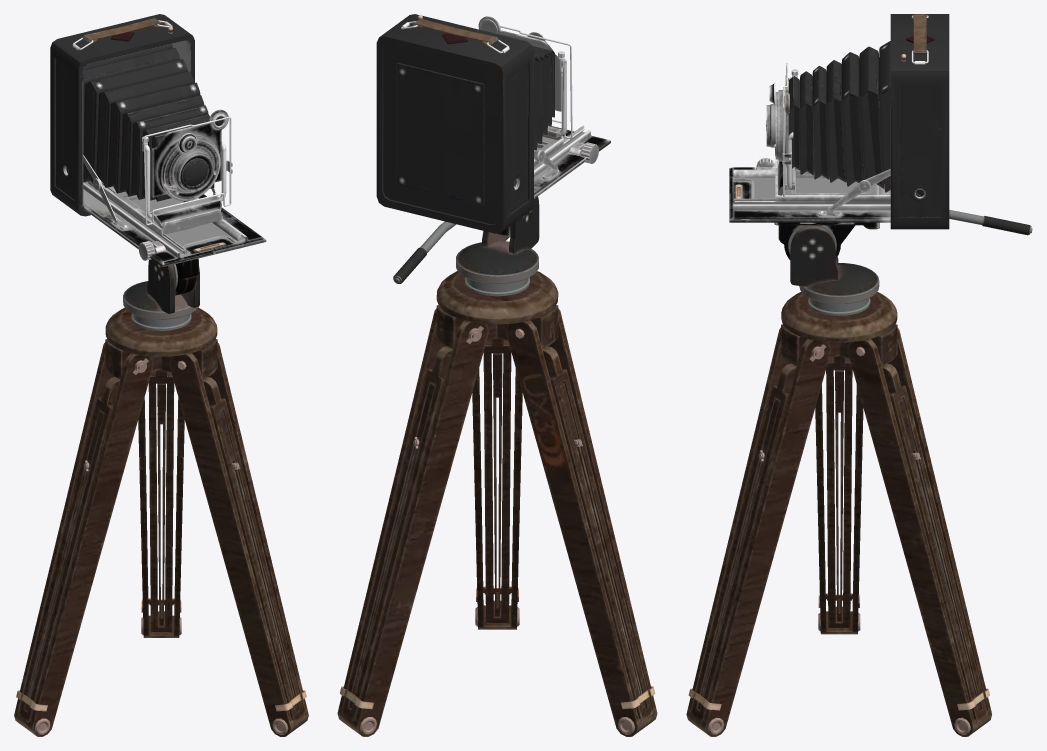
Rendered from med.glb.
3 views of the same model, side by side, from view 1: azimuth 30°, elevation 25°; view 2: azimuth 150°, elevation 25°; view 3: azimuth 270°, elevation 25° (orthographic). The views are drawn at different scales.
Parts seen in each view (by area): view 1: tripod, camera; view 2: tripod, camera; view 3: tripod, camera.
Boxes of the visible parts, left/top/right/bottom form: tripod: left=14, top=258, right=308, bottom=736; camera: left=50, top=14, right=266, bottom=266; tripod: left=337, top=196, right=657, bottom=736; camera: left=376, top=14, right=610, bottom=233; tripod: left=686, top=210, right=1032, bottom=736; camera: left=729, top=14, right=949, bottom=229.
Size of the model in its own units: 2.6 by 7.21 by 3.39.
2 materials, 2 textured.
